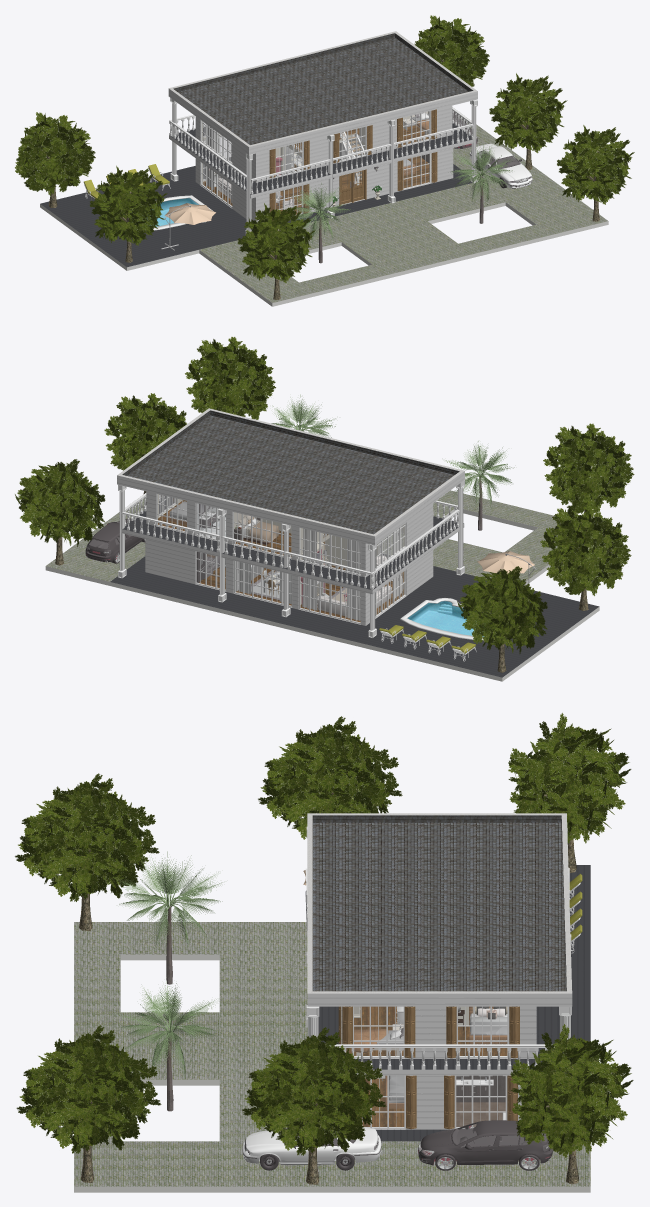
Rendered from luxury_mansion.glb.
3 views of the same model, one above another, from view 1: azimuth 30°, elevation 25°; view 2: azimuth 150°, elevation 25°; view 3: azimuth 270°, elevation 25° (orthographic). The views are drawn at different scales.
Visible parts, largest first — view 1: Object_50, Object_91, Object_109, Object_59, Object_58, Object_40, Object_43, Object_5, Object_41, Object_46, Object_11, Object_19 (+7 smaller); view 2: Object_50, Object_109, Object_59, Object_40, Object_58, Object_43, Object_91, Object_41, Object_5, Object_46, Object_19, Object_38 (+11 smaller); view 3: Object_50, Object_91, Object_109, Object_58, Object_46, Object_43, Object_59, Object_40, Object_5, Object_44, Object_41, Object_11 (+10 smaller).
Boxes of the visible parts, box(x1,y1,x2,y2) form: Object_50: box(15, 15, 634, 283); Object_91: box(199, 116, 608, 302); Object_109: box(178, 37, 468, 144); Object_59: box(40, 123, 472, 267); Object_58: box(168, 88, 477, 222); Object_40: box(84, 98, 532, 215); Object_43: box(202, 111, 514, 214); Object_5: box(40, 202, 608, 306); Object_41: box(96, 99, 477, 237); Object_46: box(291, 144, 512, 243); Object_11: box(269, 109, 437, 220); Object_19: box(169, 31, 477, 146); Object_50: box(15, 337, 634, 654); Object_109: box(127, 415, 454, 534); Object_59: box(110, 496, 599, 677); Object_40: box(118, 484, 476, 661); Object_58: box(117, 471, 464, 625); Object_43: box(105, 494, 404, 621); Object_91: box(46, 490, 580, 581); Object_41: box(121, 480, 483, 655); Object_5: box(45, 508, 599, 681); Object_46: box(235, 394, 514, 528); Object_19: box(117, 408, 464, 536); Object_38: box(302, 527, 401, 620); Object_50: box(15, 713, 633, 1157); Object_91: box(74, 922, 590, 1186); Object_109: box(312, 822, 566, 991); Object_58: box(305, 897, 572, 1129); Object_46: box(113, 851, 222, 1079); Object_43: box(354, 1007, 548, 1148); Object_59: box(305, 865, 590, 1141); Object_40: box(242, 828, 580, 1165); Object_5: box(74, 954, 590, 1192); Object_44: box(243, 895, 573, 1168); Object_41: box(306, 827, 580, 1129); Object_11: box(338, 1006, 519, 1129).
Size of the model in its own units: 33.74 by 7.21 by 23.73.
Materials: 100 (77 with a texture image).
